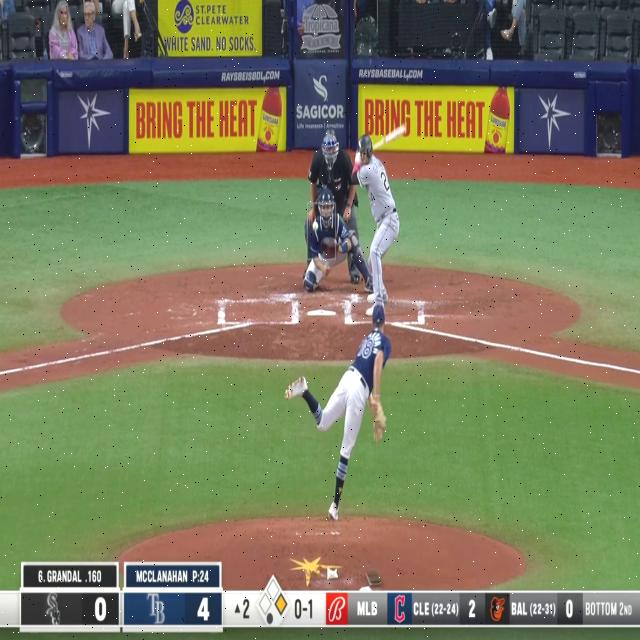baseball: (313, 221, 318, 230)
